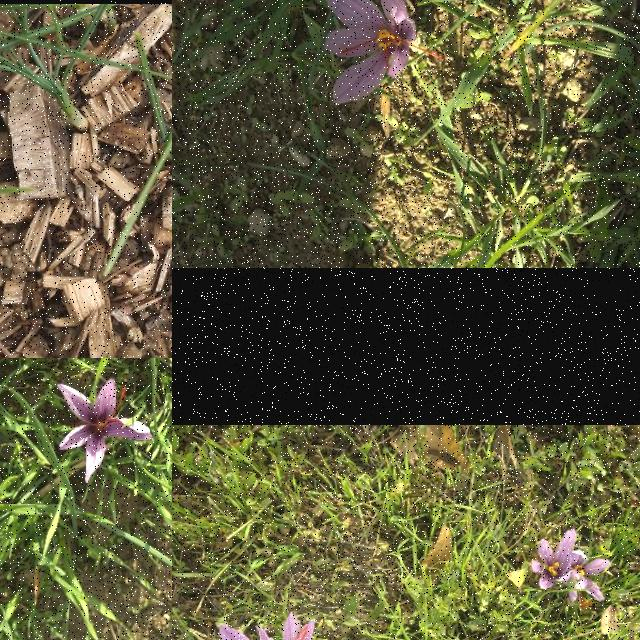flower: (323, 0, 444, 108), (56, 380, 154, 484), (256, 614, 316, 640)
overlap: (532, 528, 612, 610)
